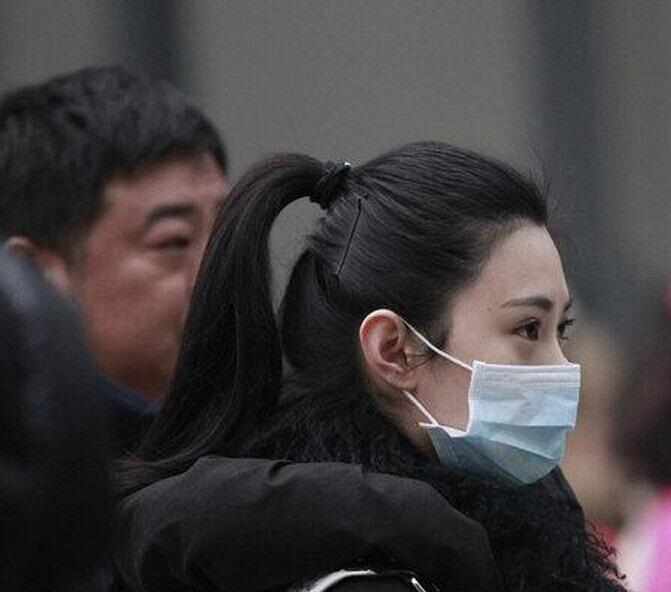NONE: (73, 157, 243, 395)
OK: (421, 232, 580, 484)
